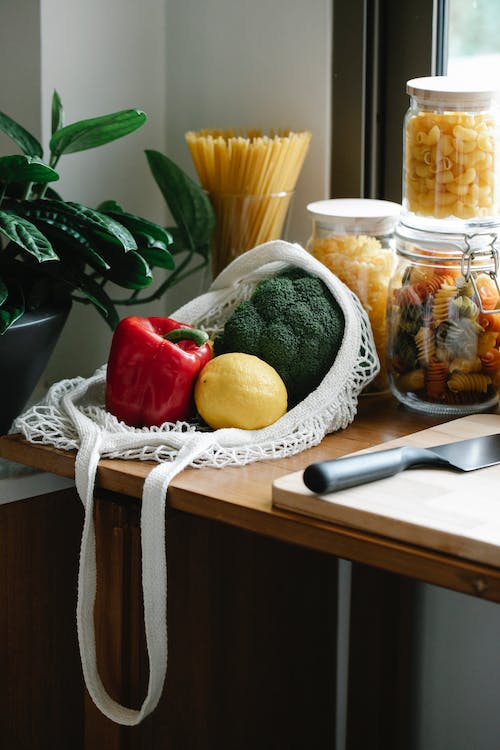knife: (297, 432, 500, 495)
